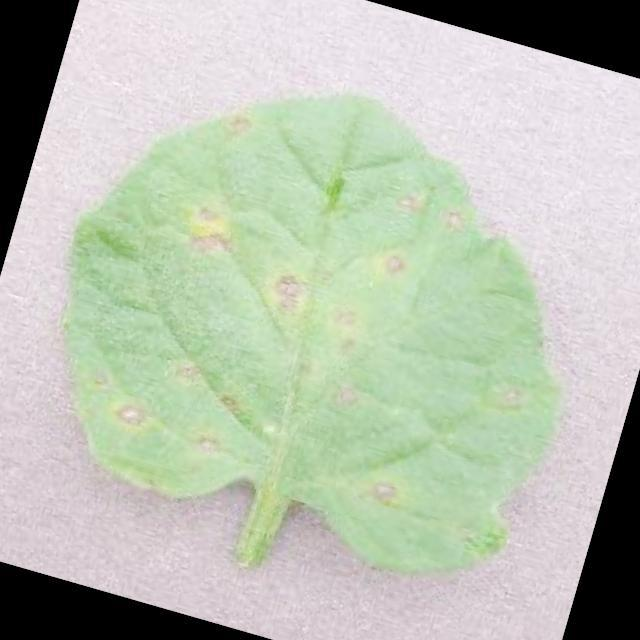Tomato Septoria spot leaf: (9, 24, 630, 605)
